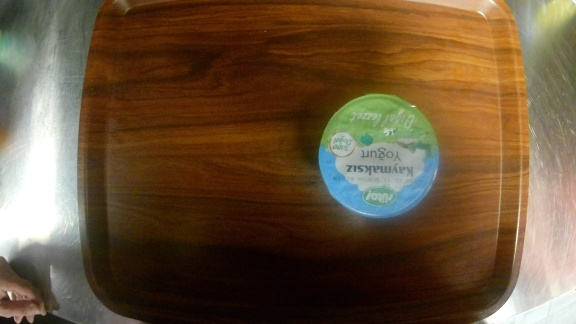yogurt: (313, 92, 446, 220)
